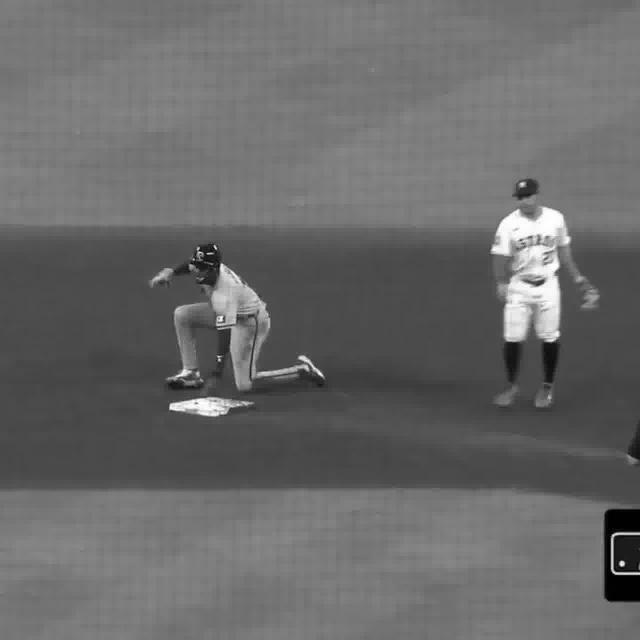base: (168, 402, 258, 420)
baseball_glove: (578, 274, 604, 312)
shoe: (299, 358, 328, 386), (162, 368, 200, 388), (493, 384, 522, 410), (534, 385, 553, 407)
